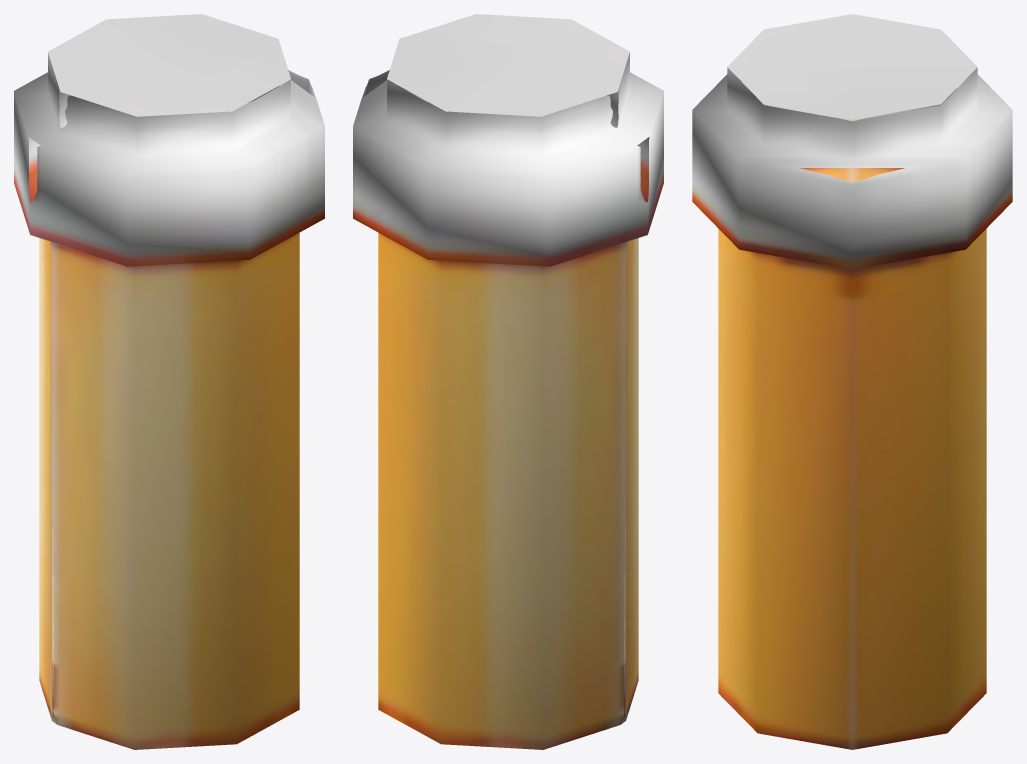
Rendered from pill_bottle.FBX.
3 views of the same model, side by side, from view 1: azimuth 30°, elevation 25°; view 2: azimuth 150°, elevation 25°; view 3: azimuth 270°, elevation 25° (orthographic).
Parts seen in each view (by area): view 1: pill_bottle; view 2: pill_bottle; view 3: pill_bottle.
Part boxes in pixels (bbox=[...]): pill_bottle: bbox=[14, 14, 324, 749]; pill_bottle: bbox=[353, 14, 663, 749]; pill_bottle: bbox=[692, 14, 1012, 749].
Size of the model in its own units: 6.57 by 14.17 by 6.57.
